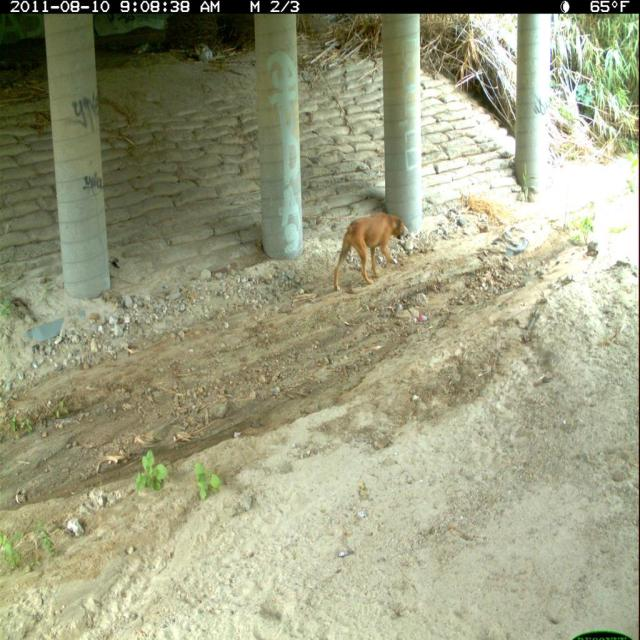dog: (332, 205, 411, 297)
